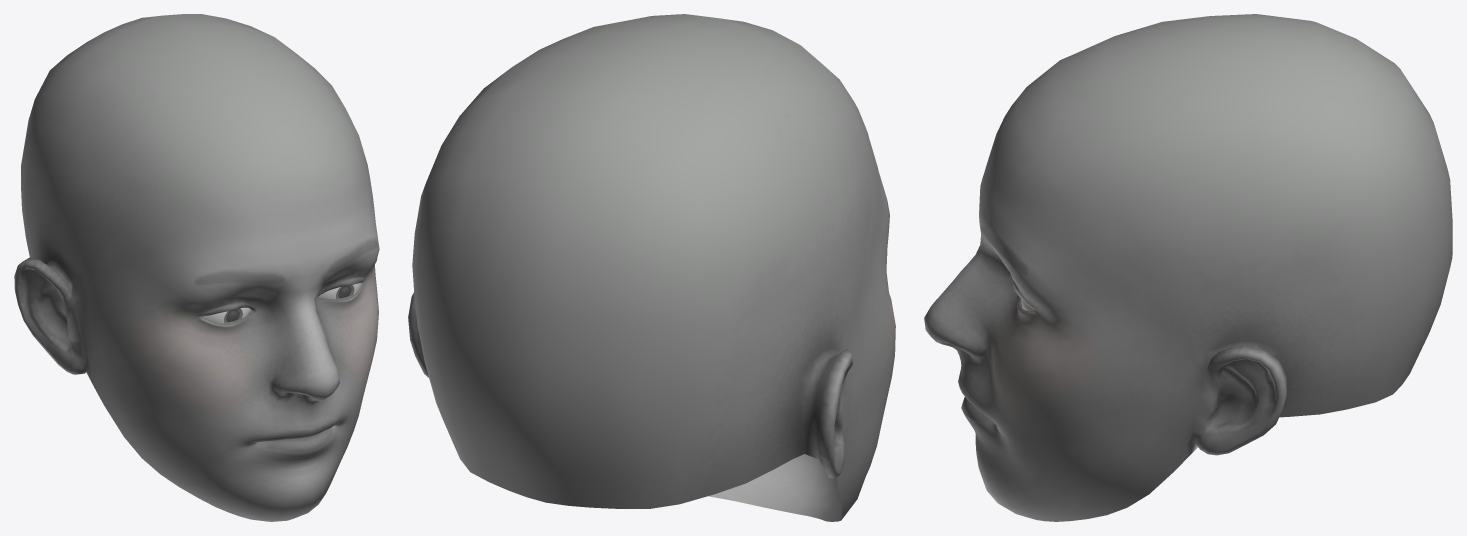
3 views of the same model, side by side, from view 1: azimuth 30°, elevation 25°; view 2: azimuth 150°, elevation 25°; view 3: azimuth 270°, elevation 25° (orthographic). The views are drawn at different scales.
Parts seen in each view (by area): view 1: head, eyeLeft; view 2: head; view 3: head.
Boxes of the visible parts, <box> form: head: <box>14,14,379,521</box>; eyeLeft: <box>201,307,250,323</box>; head: <box>408,14,895,521</box>; head: <box>924,14,1452,521</box>.
Size of the model in its own units: 1.9 by 2.34 by 2.36.
Materials: 1 (1 with a texture image).
